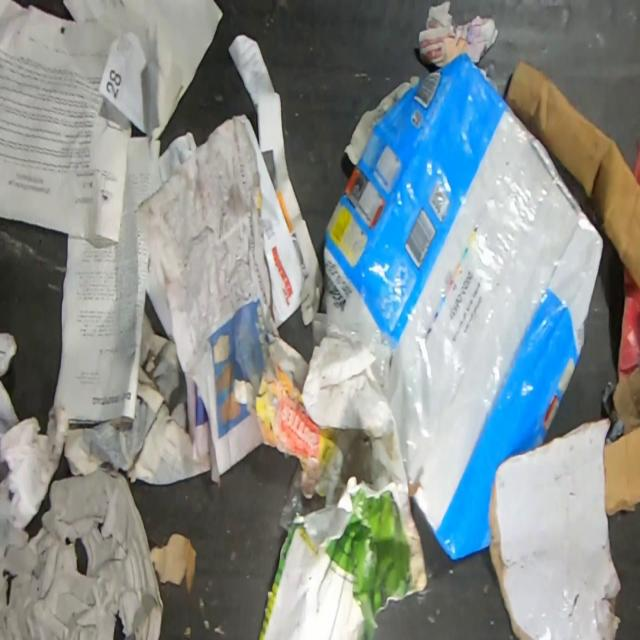cardboard: (505, 56, 640, 516), (489, 418, 624, 640)
soft_plastic: (322, 52, 604, 560)
